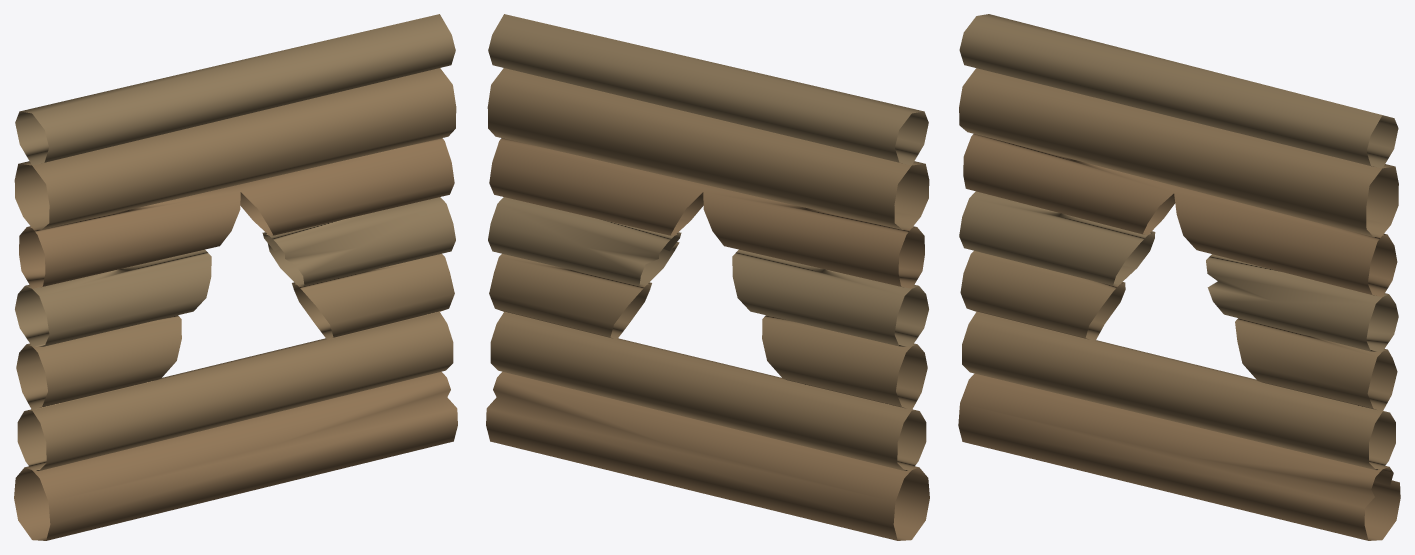
Rendered from rpgpp_ag_wall_01_3x3_window_e.fbx.
3 views of the same model, side by side, from view 1: azimuth 30°, elevation 25°; view 2: azimuth 150°, elevation 25°; view 3: azimuth 330°, elevation 25° (orthographic).
Parts seen in each view (by area): view 1: rpgpp_ag_wall_01_3x3_window_e; view 2: rpgpp_ag_wall_01_3x3_window_e; view 3: rpgpp_ag_wall_01_3x3_window_e.
Part boxes in pixels (x1,y1,x2,y2): rpgpp_ag_wall_01_3x3_window_e: (14, 14, 457, 540); rpgpp_ag_wall_01_3x3_window_e: (486, 14, 929, 540); rpgpp_ag_wall_01_3x3_window_e: (958, 14, 1400, 540).
Size of the model in its own units: 3 by 3 by 0.4626.
